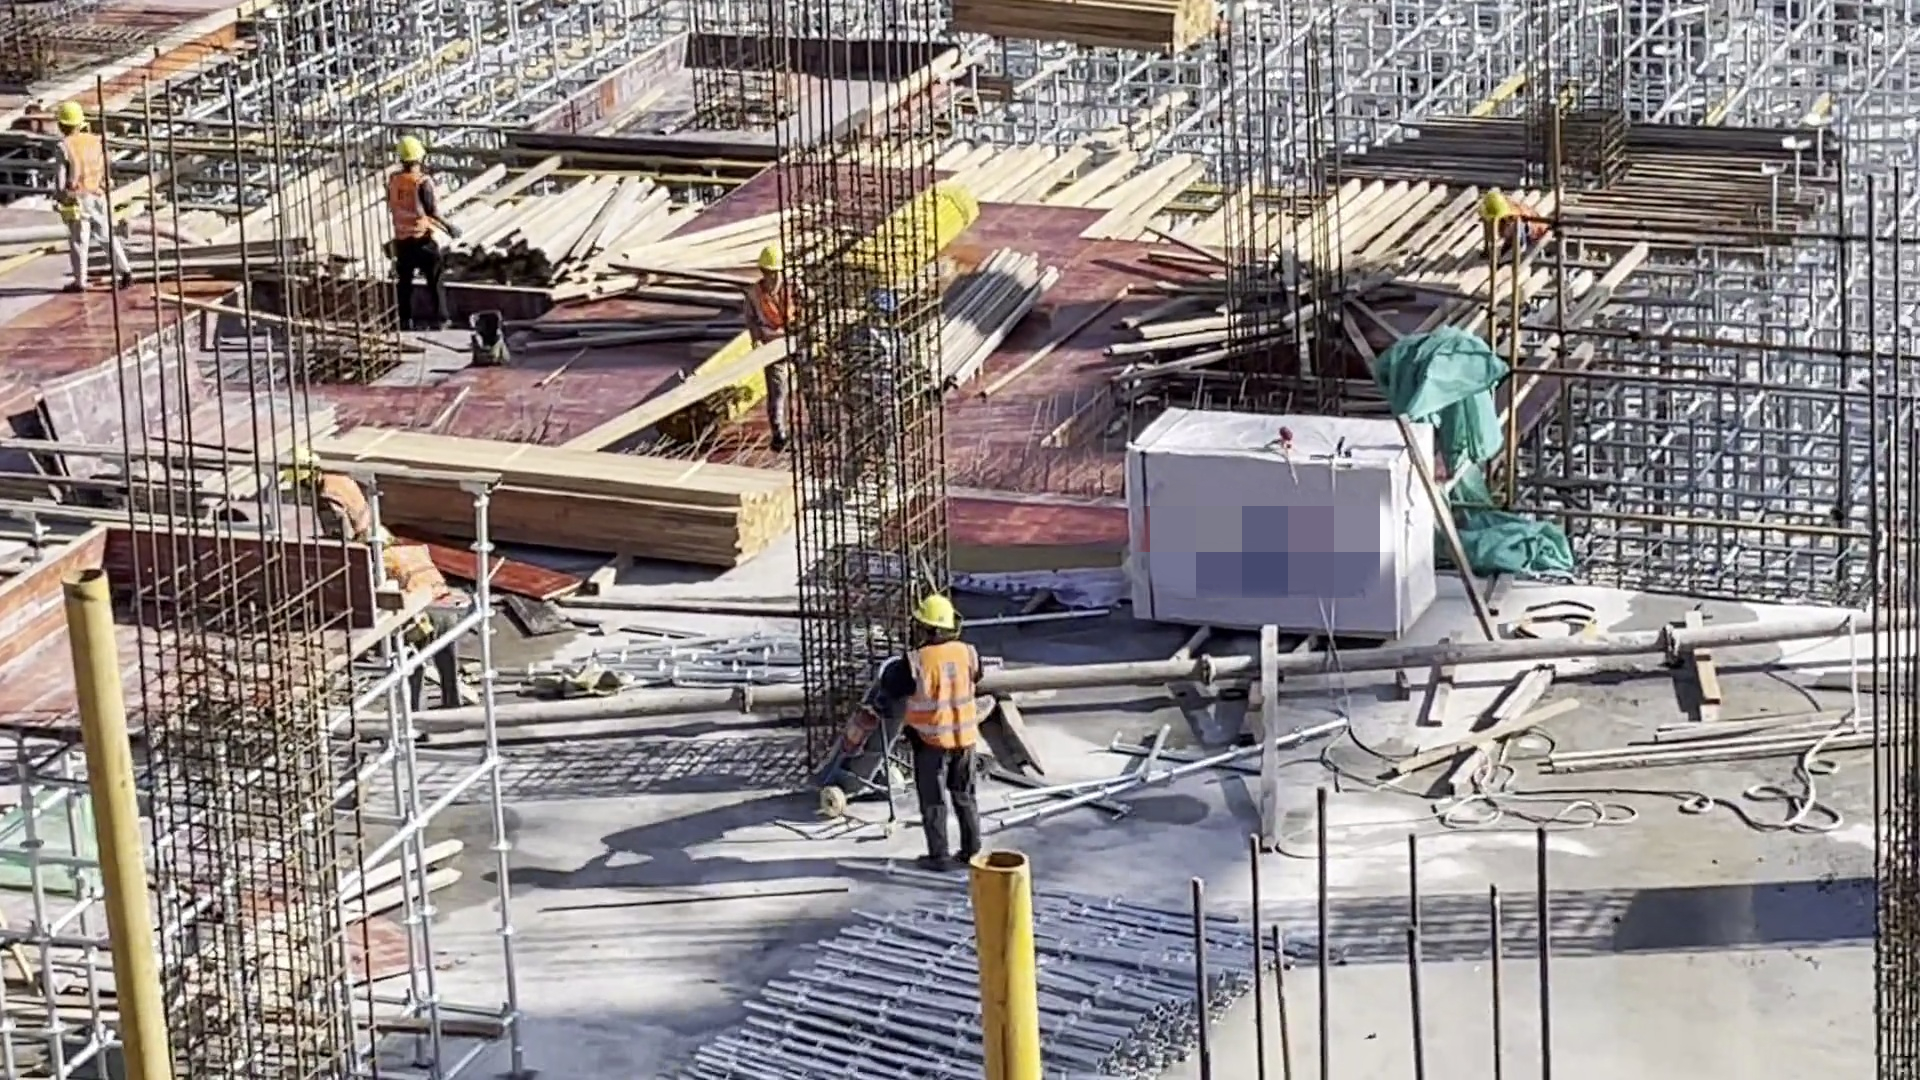helmet: (907, 595, 955, 637), (754, 247, 786, 280), (1479, 189, 1510, 221), (394, 135, 424, 164), (54, 98, 85, 125)
person: (880, 593, 985, 863), (746, 243, 829, 450), (376, 532, 467, 713), (45, 100, 121, 288), (385, 134, 449, 327), (285, 461, 396, 556), (1474, 187, 1574, 273)
scaffold: (692, 878, 1254, 1080)
vest: (906, 639, 980, 746), (385, 170, 438, 244), (313, 480, 372, 545), (52, 131, 108, 198), (753, 279, 801, 333)
wood: (363, 429, 796, 575), (451, 160, 749, 301), (935, 1, 1231, 63)
